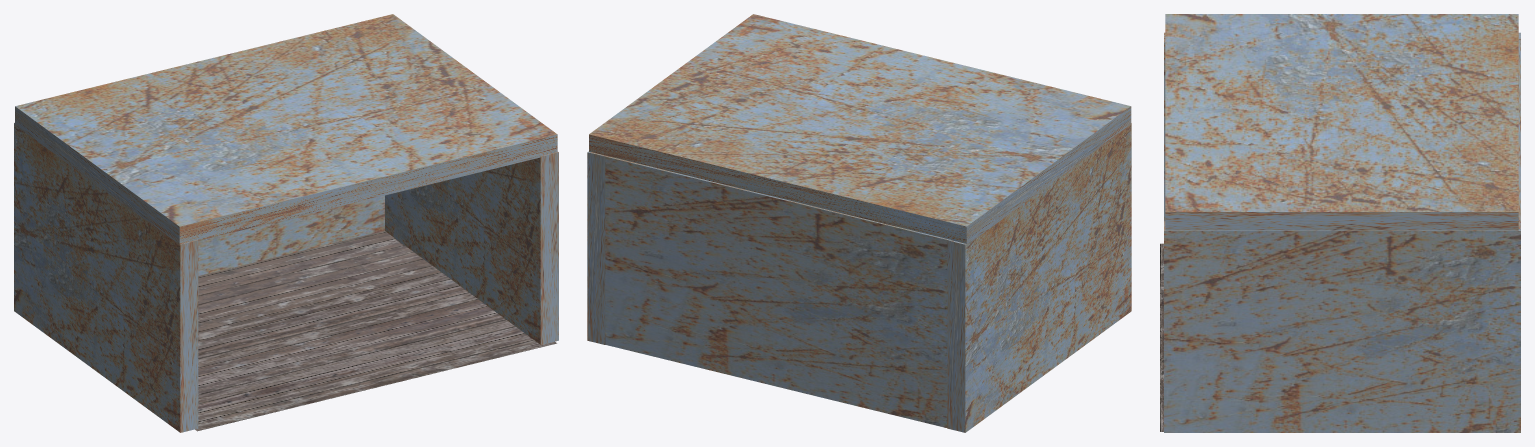
File: room1-draft1.glb
The picture shows the model from 3 angles, left to right: view 1: azimuth 30°, elevation 25°; view 2: azimuth 150°, elevation 25°; view 3: azimuth 270°, elevation 25°; orthographic projection. The views are drawn at different scales.
Visible parts, largest first — view 1: Cube.003, Plane, Cube, Cube.001, Cube.002; view 2: Cube.003, Cube.002, Cube, Cube.001; view 3: Cube.003, Cube.001, Plane, Cube.002, Cube.
Part boxes in pixels (bbox=[...]): Cube.003: bbox=[15, 14, 557, 245]; Plane: bbox=[195, 231, 556, 431]; Cube: bbox=[14, 122, 198, 432]; Cube.001: bbox=[385, 152, 558, 344]; Cube.002: bbox=[198, 195, 384, 275]; Cube.003: bbox=[589, 14, 1131, 244]; Cube.002: bbox=[590, 152, 950, 427]; Cube: bbox=[947, 123, 1131, 432]; Cube.001: bbox=[587, 151, 605, 344]; Cube.003: bbox=[1165, 14, 1518, 230]; Cube.001: bbox=[1164, 221, 1520, 432]; Plane: bbox=[1160, 243, 1163, 431]; Cube.002: bbox=[1518, 40, 1520, 229]; Cube: bbox=[1164, 32, 1520, 221].
Bounding box in the file's own units: 42.05 × 21.92 × 32.35.
5 materials, 5 textured.
